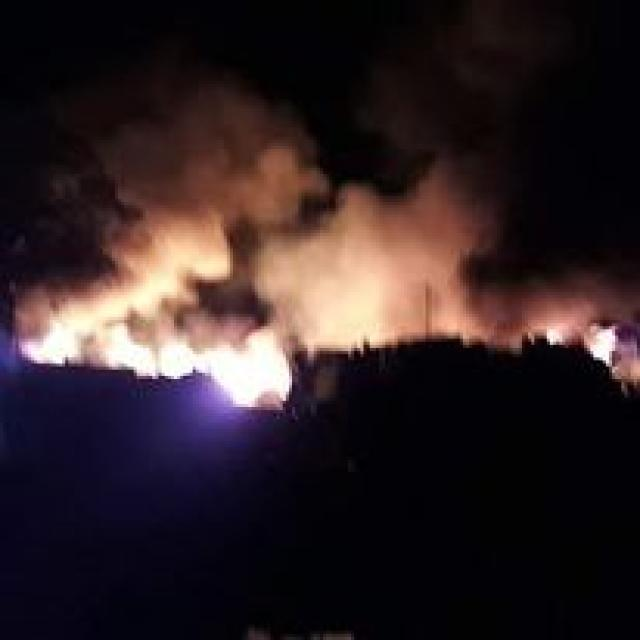Fire: (0, 264, 289, 407)
Smoke: (0, 68, 329, 316), (257, 155, 640, 352)
